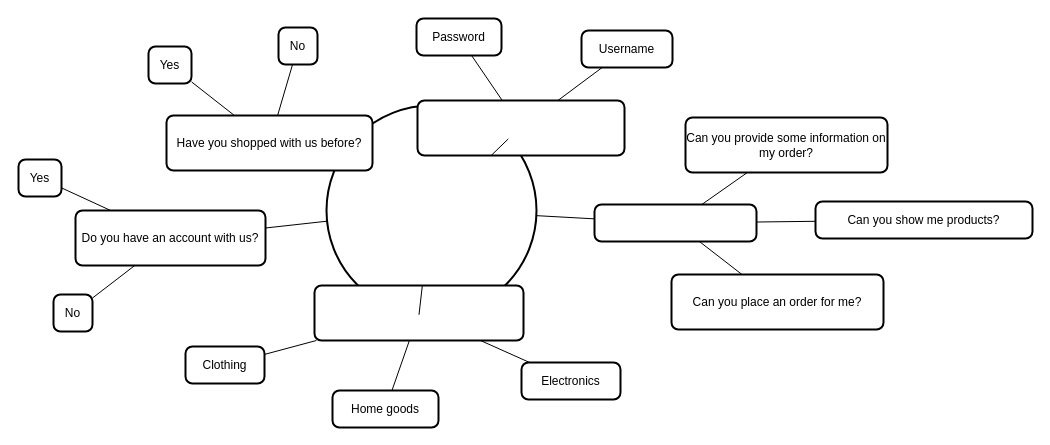
Image size: 1050x445. Some labels were removed from this diagram. The box of each missing label's shape, as (x1, y1, x2, y2) in pixels:
ChatBot conversation flow: (325, 104, 537, 316)
How can I help you?: (593, 203, 757, 242)
Please enter your account information: (416, 99, 625, 156)
What type of products are you interested in?: (313, 284, 524, 341)
